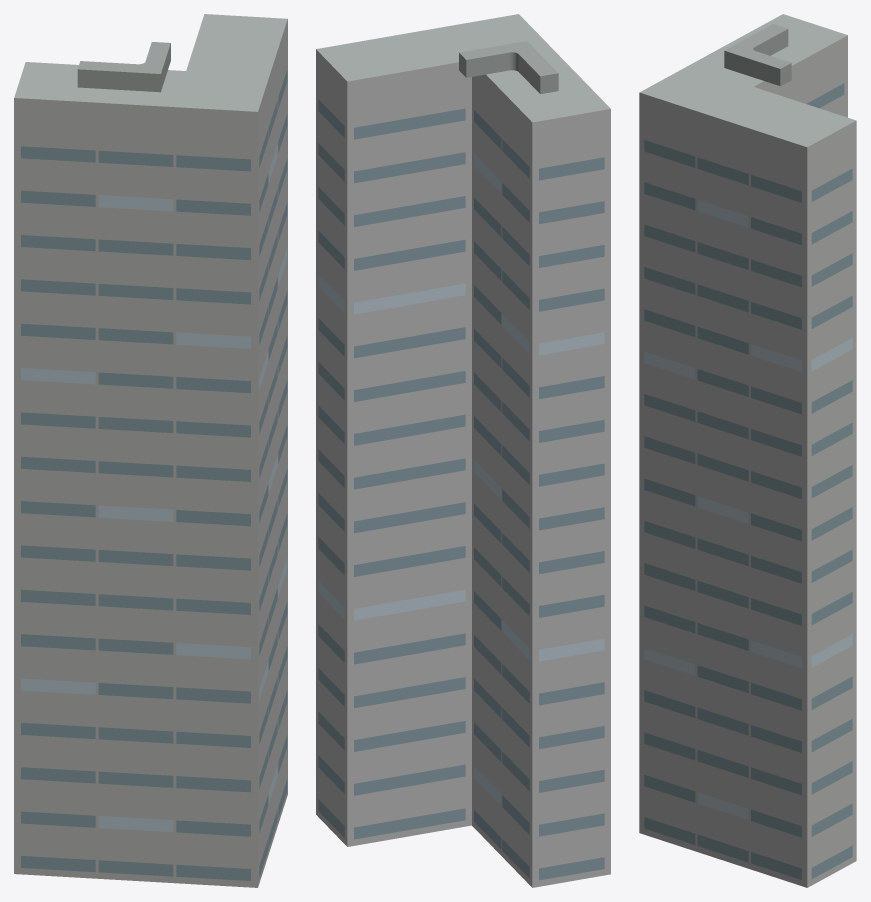
File: fallback-godeok-raemian-hillstate-112.glb
3 renders of one model, left to right at view 1: azimuth 30°, elevation 25°; view 2: azimuth 150°, elevation 25°; view 3: azimuth 270°, elevation 25°, orthographic. The views are drawn at different scales.
Visible parts, largest first — view 1: fallback-godeok-raemian-hillstate-112; view 2: fallback-godeok-raemian-hillstate-112; view 3: fallback-godeok-raemian-hillstate-112.
Part boxes in pixels (<box>): fallback-godeok-raemian-hillstate-112: <box>14,14,287,887</box>; fallback-godeok-raemian-hillstate-112: <box>316,14,610,887</box>; fallback-godeok-raemian-hillstate-112: <box>639,14,856,887</box>.
Bounding box in the file's own units: 39.62 × 105 × 27.25.
